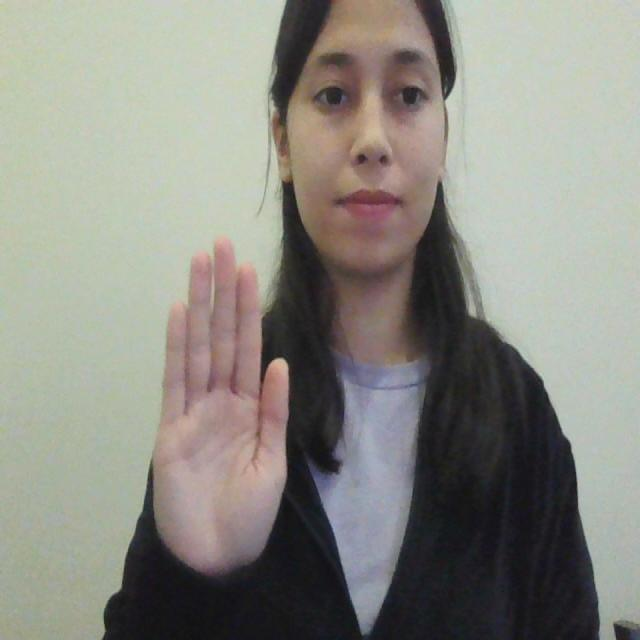Dur: (142, 202, 308, 576)
